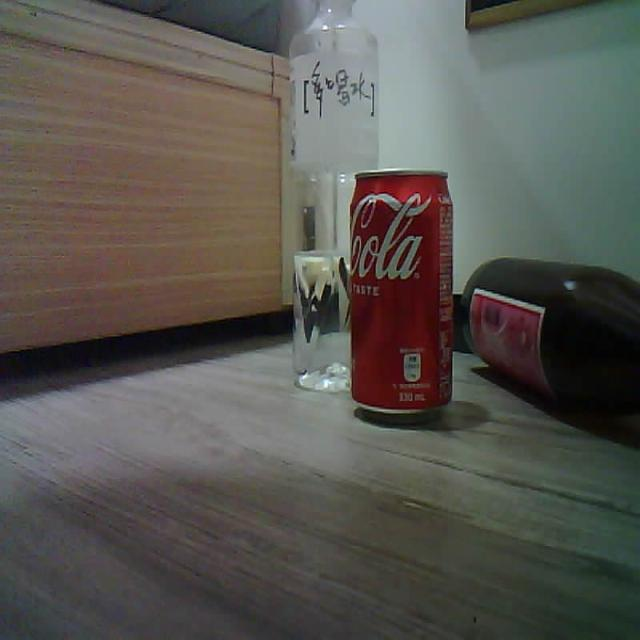bottle: (291, 0, 379, 389), (461, 258, 639, 403)
can: (348, 169, 454, 420)
